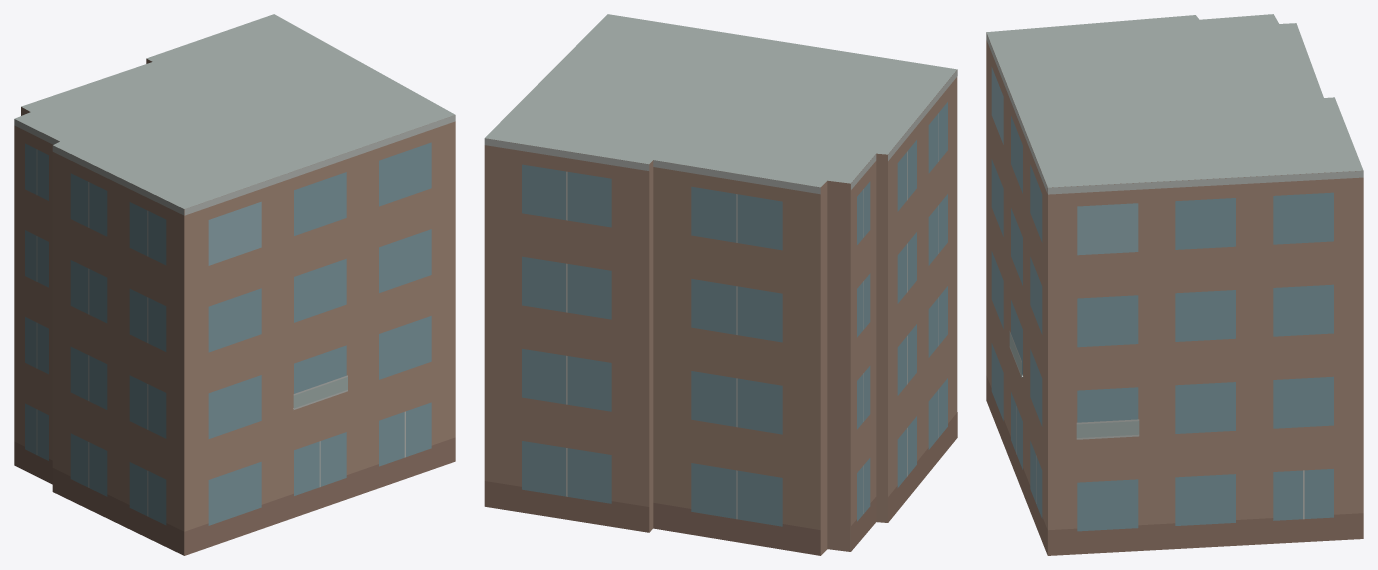
Rendered from survey-upis-32780499.glb.
3 views of the same model, side by side, from view 1: azimuth 30°, elevation 25°; view 2: azimuth 150°, elevation 25°; view 3: azimuth 270°, elevation 25° (orthographic). The views are drawn at different scales.
Visible parts, largest first — view 1: survey-upis-32780499.tmp; view 2: survey-upis-32780499.tmp; view 3: survey-upis-32780499.tmp.
Boxes of the visible parts, left/top/right/bottom form: survey-upis-32780499.tmp: left=14, top=14, right=455, bottom=555; survey-upis-32780499.tmp: left=484, top=14, right=957, bottom=555; survey-upis-32780499.tmp: left=986, top=14, right=1363, bottom=555.
Size of the model in its own units: 13.16 by 13 by 12.08.
